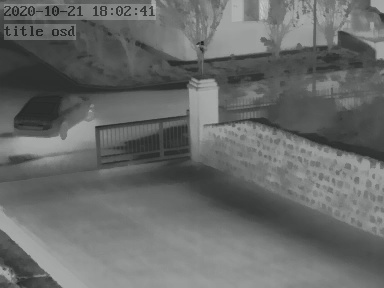vehicle: (11, 93, 101, 138)
